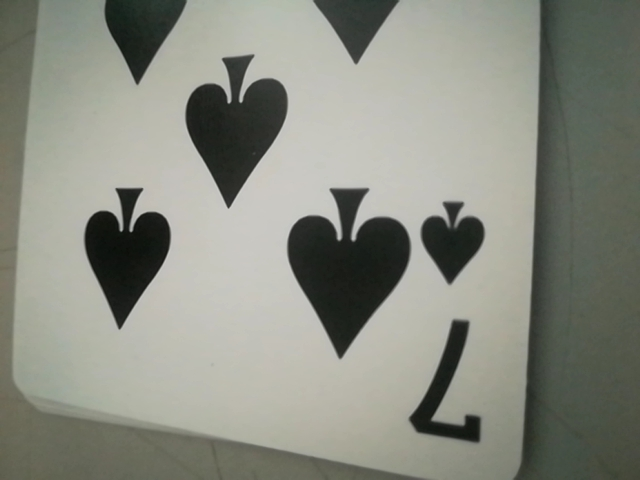ht 7: (408, 194, 489, 443)
